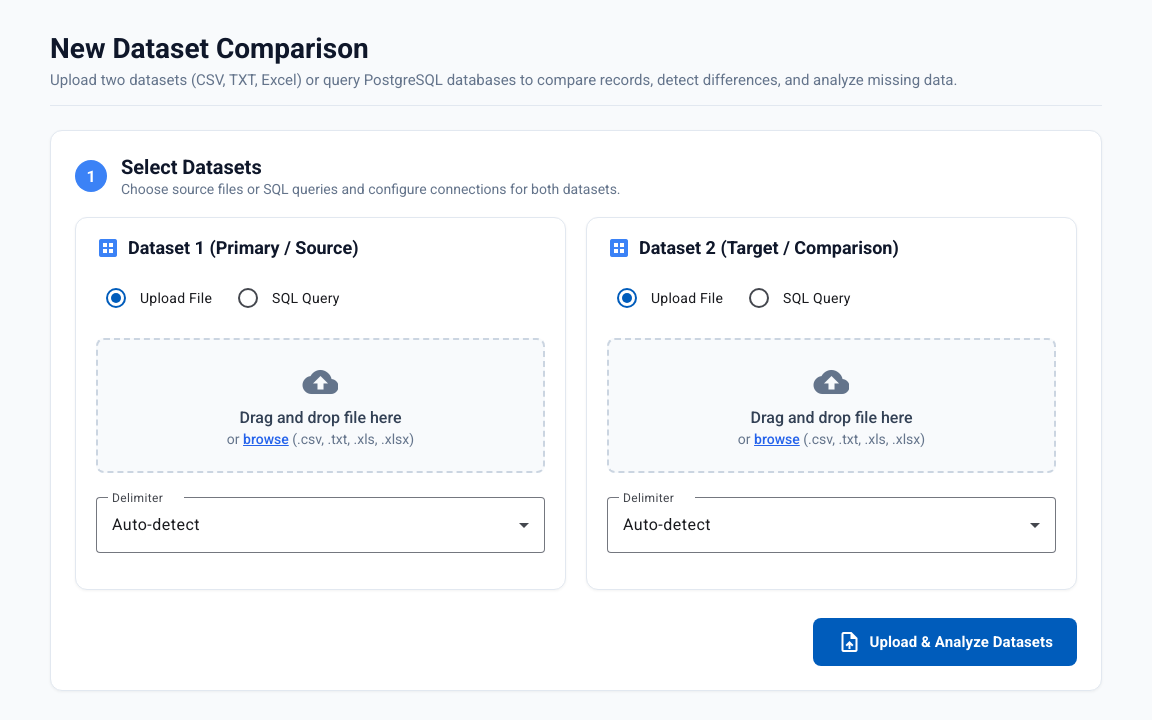
CompareComponent › should upload files and transition to step 2 with auto-detected columns
Click the button with class "upload-btn": (945, 642) x1=813 y1=618 x2=1077 y2=666
(page scrolled)
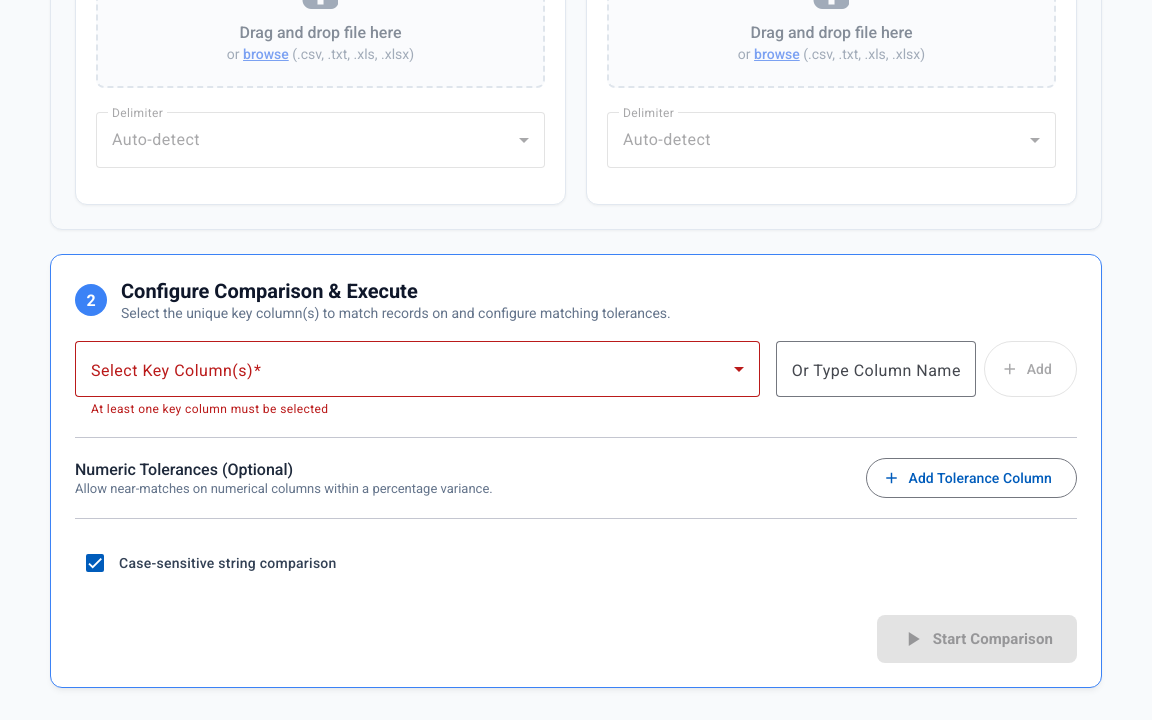
Check: the element that starts with "Select Key Column(s)" is shown, box x1=75 y1=341 x2=1077 y2=417
Check: the element that starts with "Numeric Tolerances (Optional)" is shown, box x1=75 y1=458 x2=1077 y2=498
